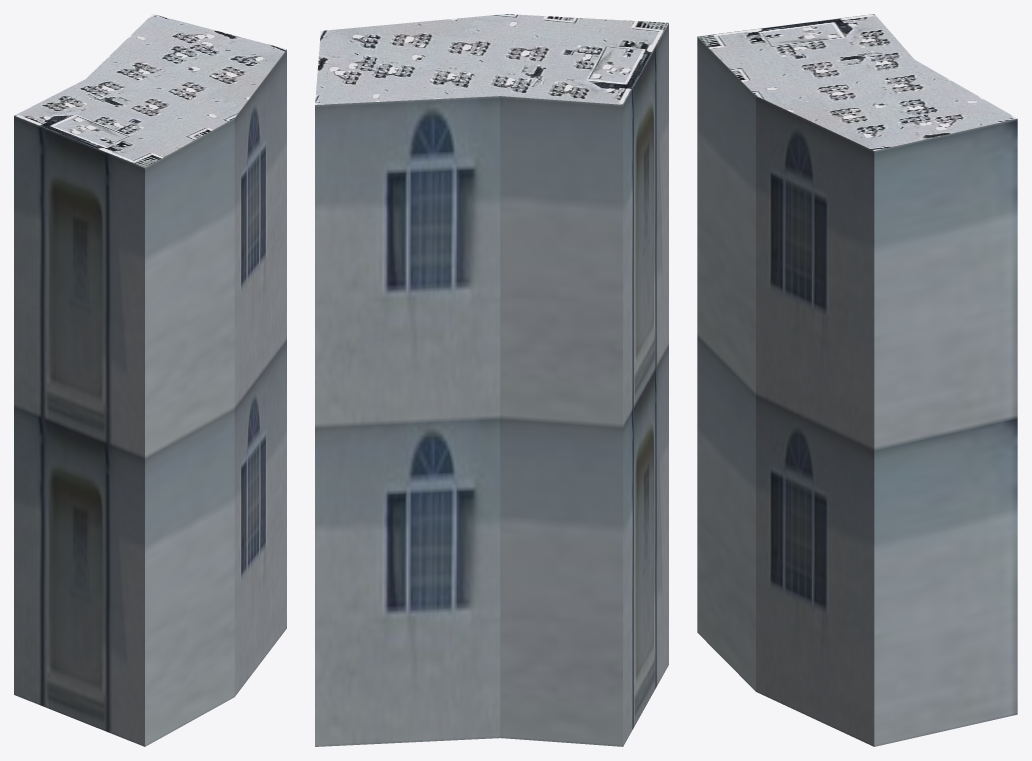
File: ResTex__5083.fbx
3 views of the same model, side by side, from view 1: azimuth 30°, elevation 25°; view 2: azimuth 150°, elevation 25°; view 3: azimuth 270°, elevation 25° (orthographic). The views are drawn at different scales.
Visible parts, largest first — view 1: CityEngineMaterial_17_m, CityEngineMaterial_8_m; view 2: CityEngineMaterial_17_m, CityEngineMaterial_8_m; view 3: CityEngineMaterial_17_m, CityEngineMaterial_8_m.
Part boxes in pixels (x1,y1,x2,y2): CityEngineMaterial_17_m: [14, 49, 286, 746]; CityEngineMaterial_8_m: [14, 14, 286, 167]; CityEngineMaterial_17_m: [315, 23, 668, 746]; CityEngineMaterial_8_m: [315, 14, 668, 104]; CityEngineMaterial_17_m: [697, 37, 1017, 746]; CityEngineMaterial_8_m: [697, 14, 1017, 150].
Bounding box in the file's own units: 2.96 × 6 × 2.92.
2 materials, 2 textured.
